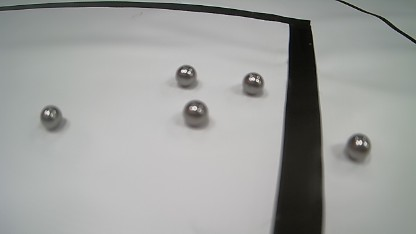ironball: (183, 100, 208, 127), (346, 133, 370, 161), (40, 105, 62, 130), (243, 72, 264, 95), (176, 65, 196, 87)
